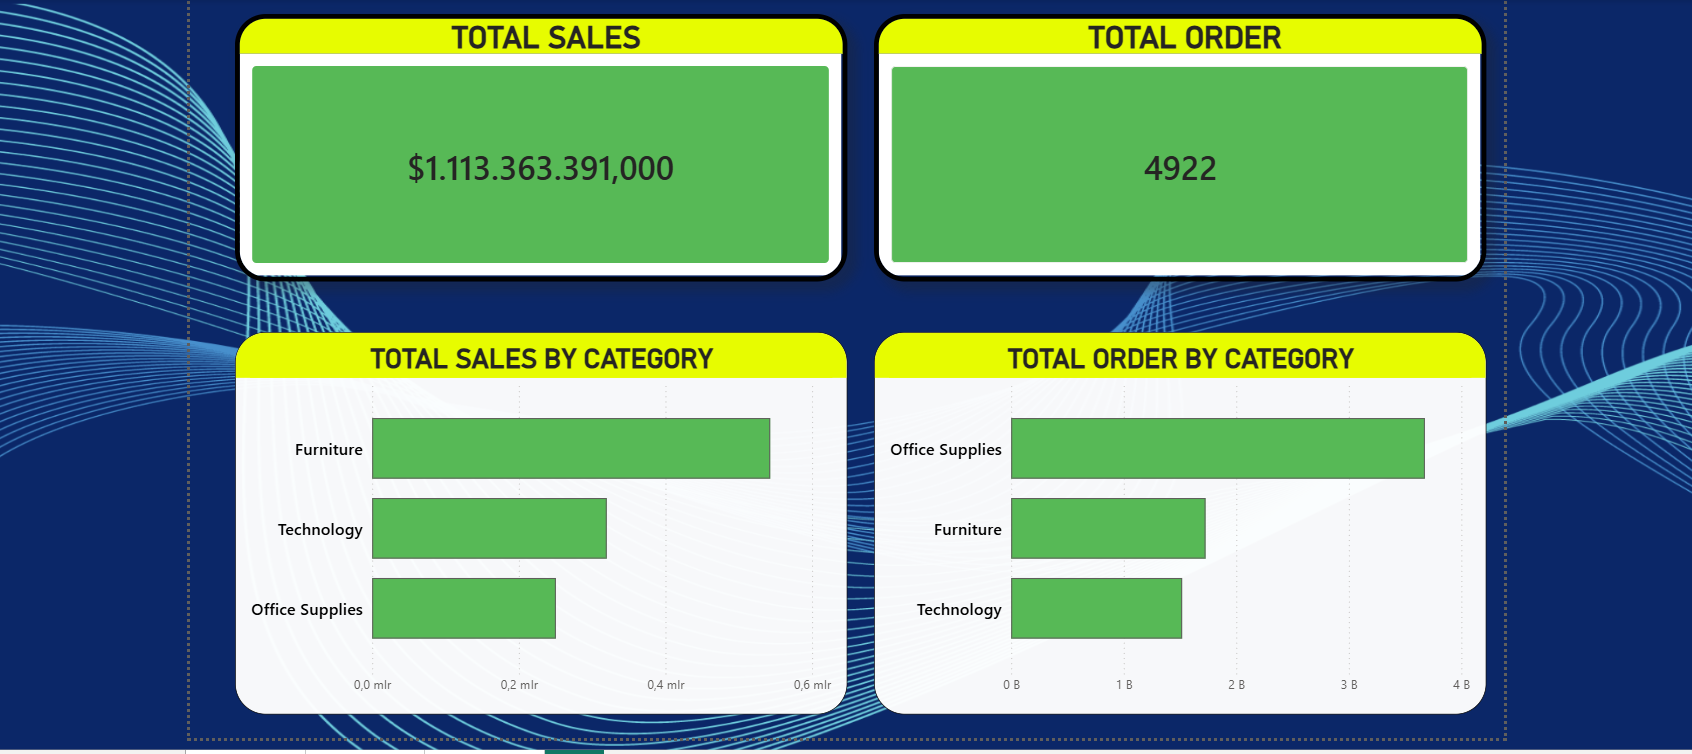

Layout of this report page (visuals, bound fields, positions):
{"tool":"powerbi","page":{"name":"1. sayfa","canvas":[1280,720],"ordinal":0},"visuals":[{"type":"cardVisual","title":"TOTAL SALES","fields":{"Data":["train.TOPLAM SATIŞ"]},"box":[43.9,15.1,596.6,260.4],"z":0},{"type":"cardVisual","title":"TOTAL ORDER","fields":{"Data":["train.Siparis Sayisi"]},"box":[666.3,15.1,596.6,260.4],"z":1000},{"type":"clusteredBarChart","title":"TOTAL SALES BY CATEGORY","fields":{"Category":["train.Category"],"Y":["train.TOPLAM SATIŞ"]},"box":[43.9,324,596.6,372.5],"z":2000},{"type":"clusteredBarChart","title":"TOTAL ORDER BY CATEGORY","fields":{"Category":["train.Category"],"Y":["train.Siparis Sayisi"]},"box":[666.3,324,596.6,372.5],"z":3000}]}

Visuals, with their boxes on the page's 1280x720 design canvas (x1, y1, x2, y2). These are canvas units, not pixel positions in the 1692x754 screenshot, which may show the page scaled, cropped or inside an application window:
"TOTAL SALES" cardVisual: 44/15/640/276
"TOTAL ORDER" cardVisual: 666/15/1263/276
"TOTAL SALES BY CATEGORY" clusteredBarChart: 44/324/640/696
"TOTAL ORDER BY CATEGORY" clusteredBarChart: 666/324/1263/696
